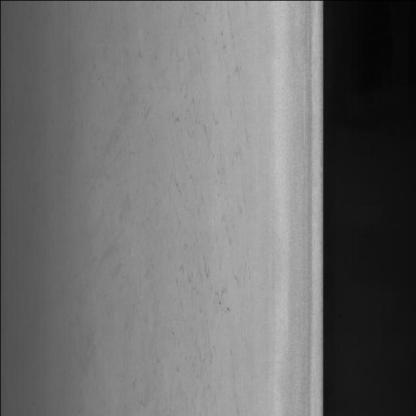silk_spot: (124, 26, 244, 346)
